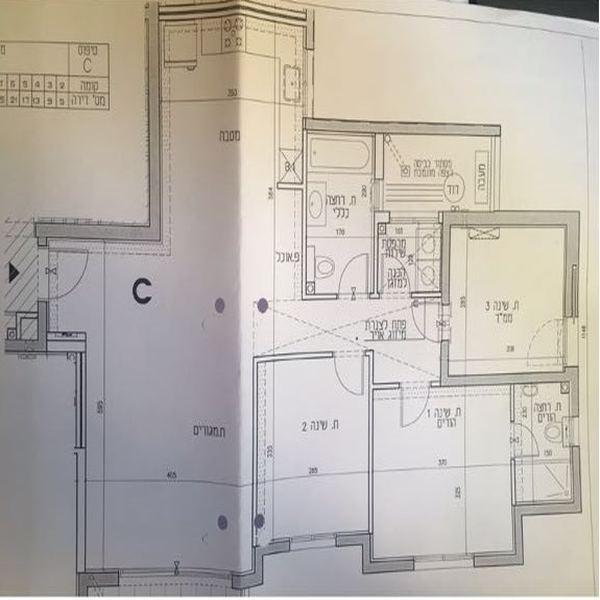door: (521, 317, 586, 366), (39, 244, 89, 303), (410, 302, 452, 345), (334, 346, 368, 399), (401, 381, 436, 430), (336, 255, 372, 300), (511, 422, 542, 458)
room: (146, 4, 307, 193), (366, 383, 523, 566), (441, 208, 587, 384), (253, 350, 373, 549)
wall: (308, 116, 505, 138), (147, 13, 162, 239), (29, 220, 163, 244), (444, 208, 580, 229), (442, 375, 577, 387), (565, 212, 578, 316), (441, 215, 452, 305), (516, 502, 580, 512), (477, 556, 522, 564), (439, 344, 447, 384), (366, 560, 417, 566)
window: (119, 565, 233, 594), (417, 554, 475, 570), (289, 534, 338, 551)
